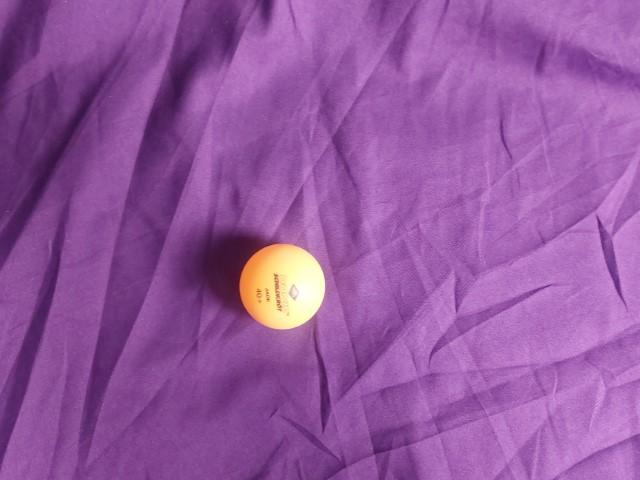oball: (305, 145, 409, 244)
